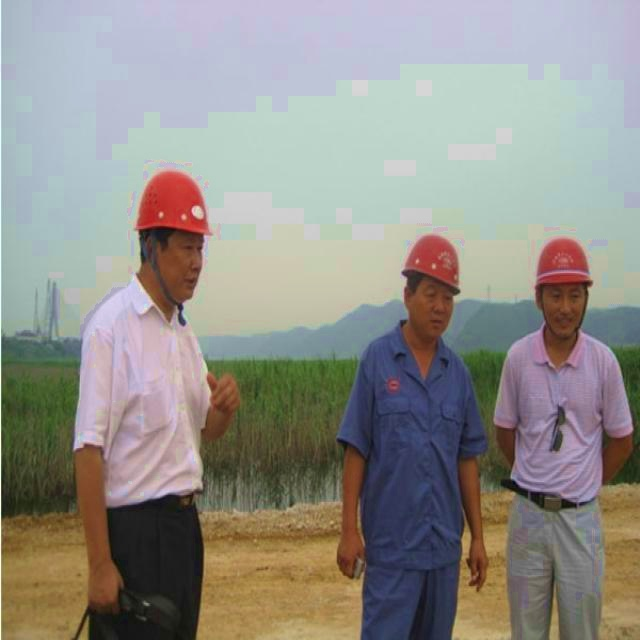Con_Casco: (401, 234, 459, 340), (532, 235, 591, 337)
Sin_Chaleco: (79, 297, 204, 498)
